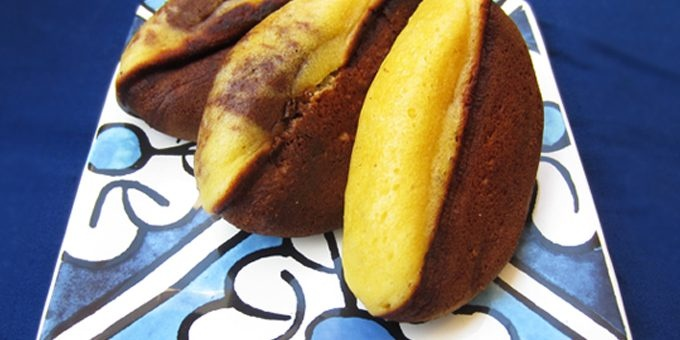pukis: (343, 3, 566, 316)
